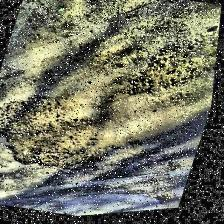pothole: (0, 77, 140, 189), (117, 23, 221, 119)
